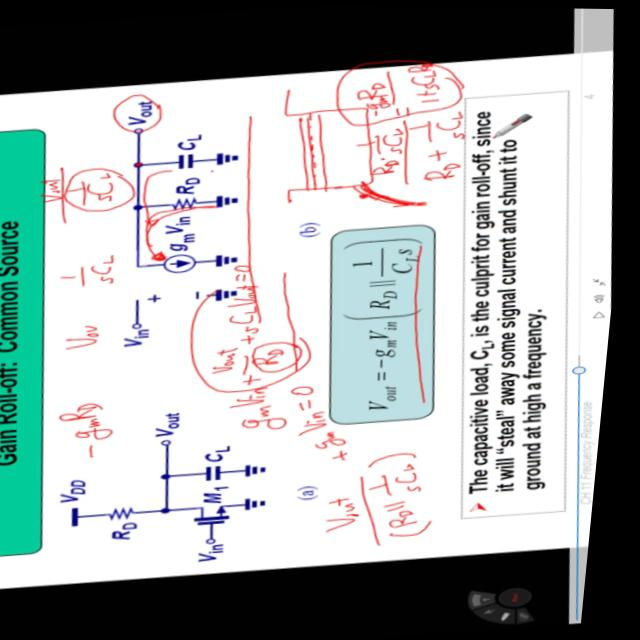panseo: (141, 238, 487, 570), (254, 53, 511, 231), (19, 143, 157, 368), (54, 387, 146, 468)
